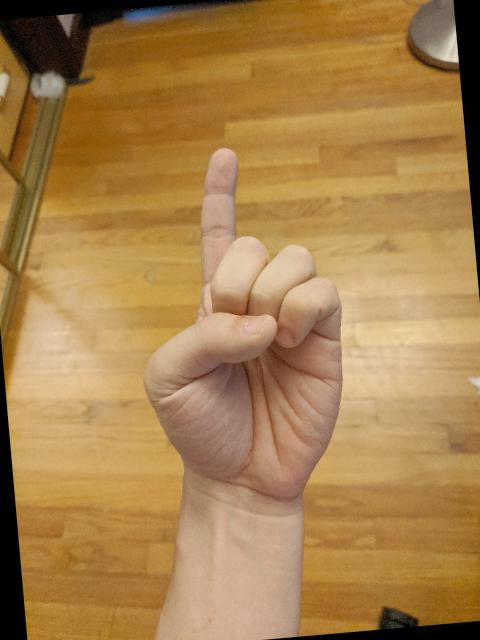D: (119, 134, 362, 520)
